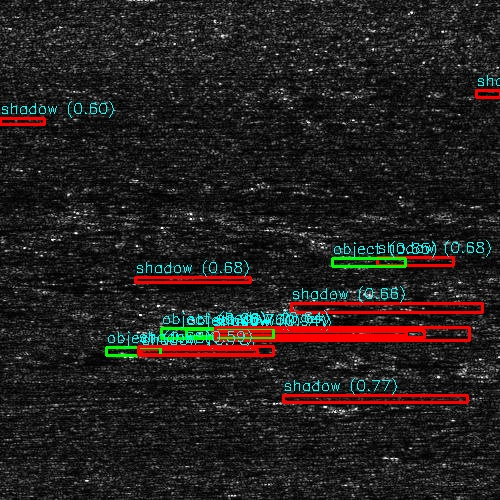rock: (242, 395, 357, 404), (177, 328, 260, 337), (344, 257, 417, 266), (257, 307, 310, 312), (485, 361, 500, 366)
shadow: (219, 328, 451, 337), (300, 395, 475, 404), (284, 307, 460, 312), (381, 257, 441, 266)
